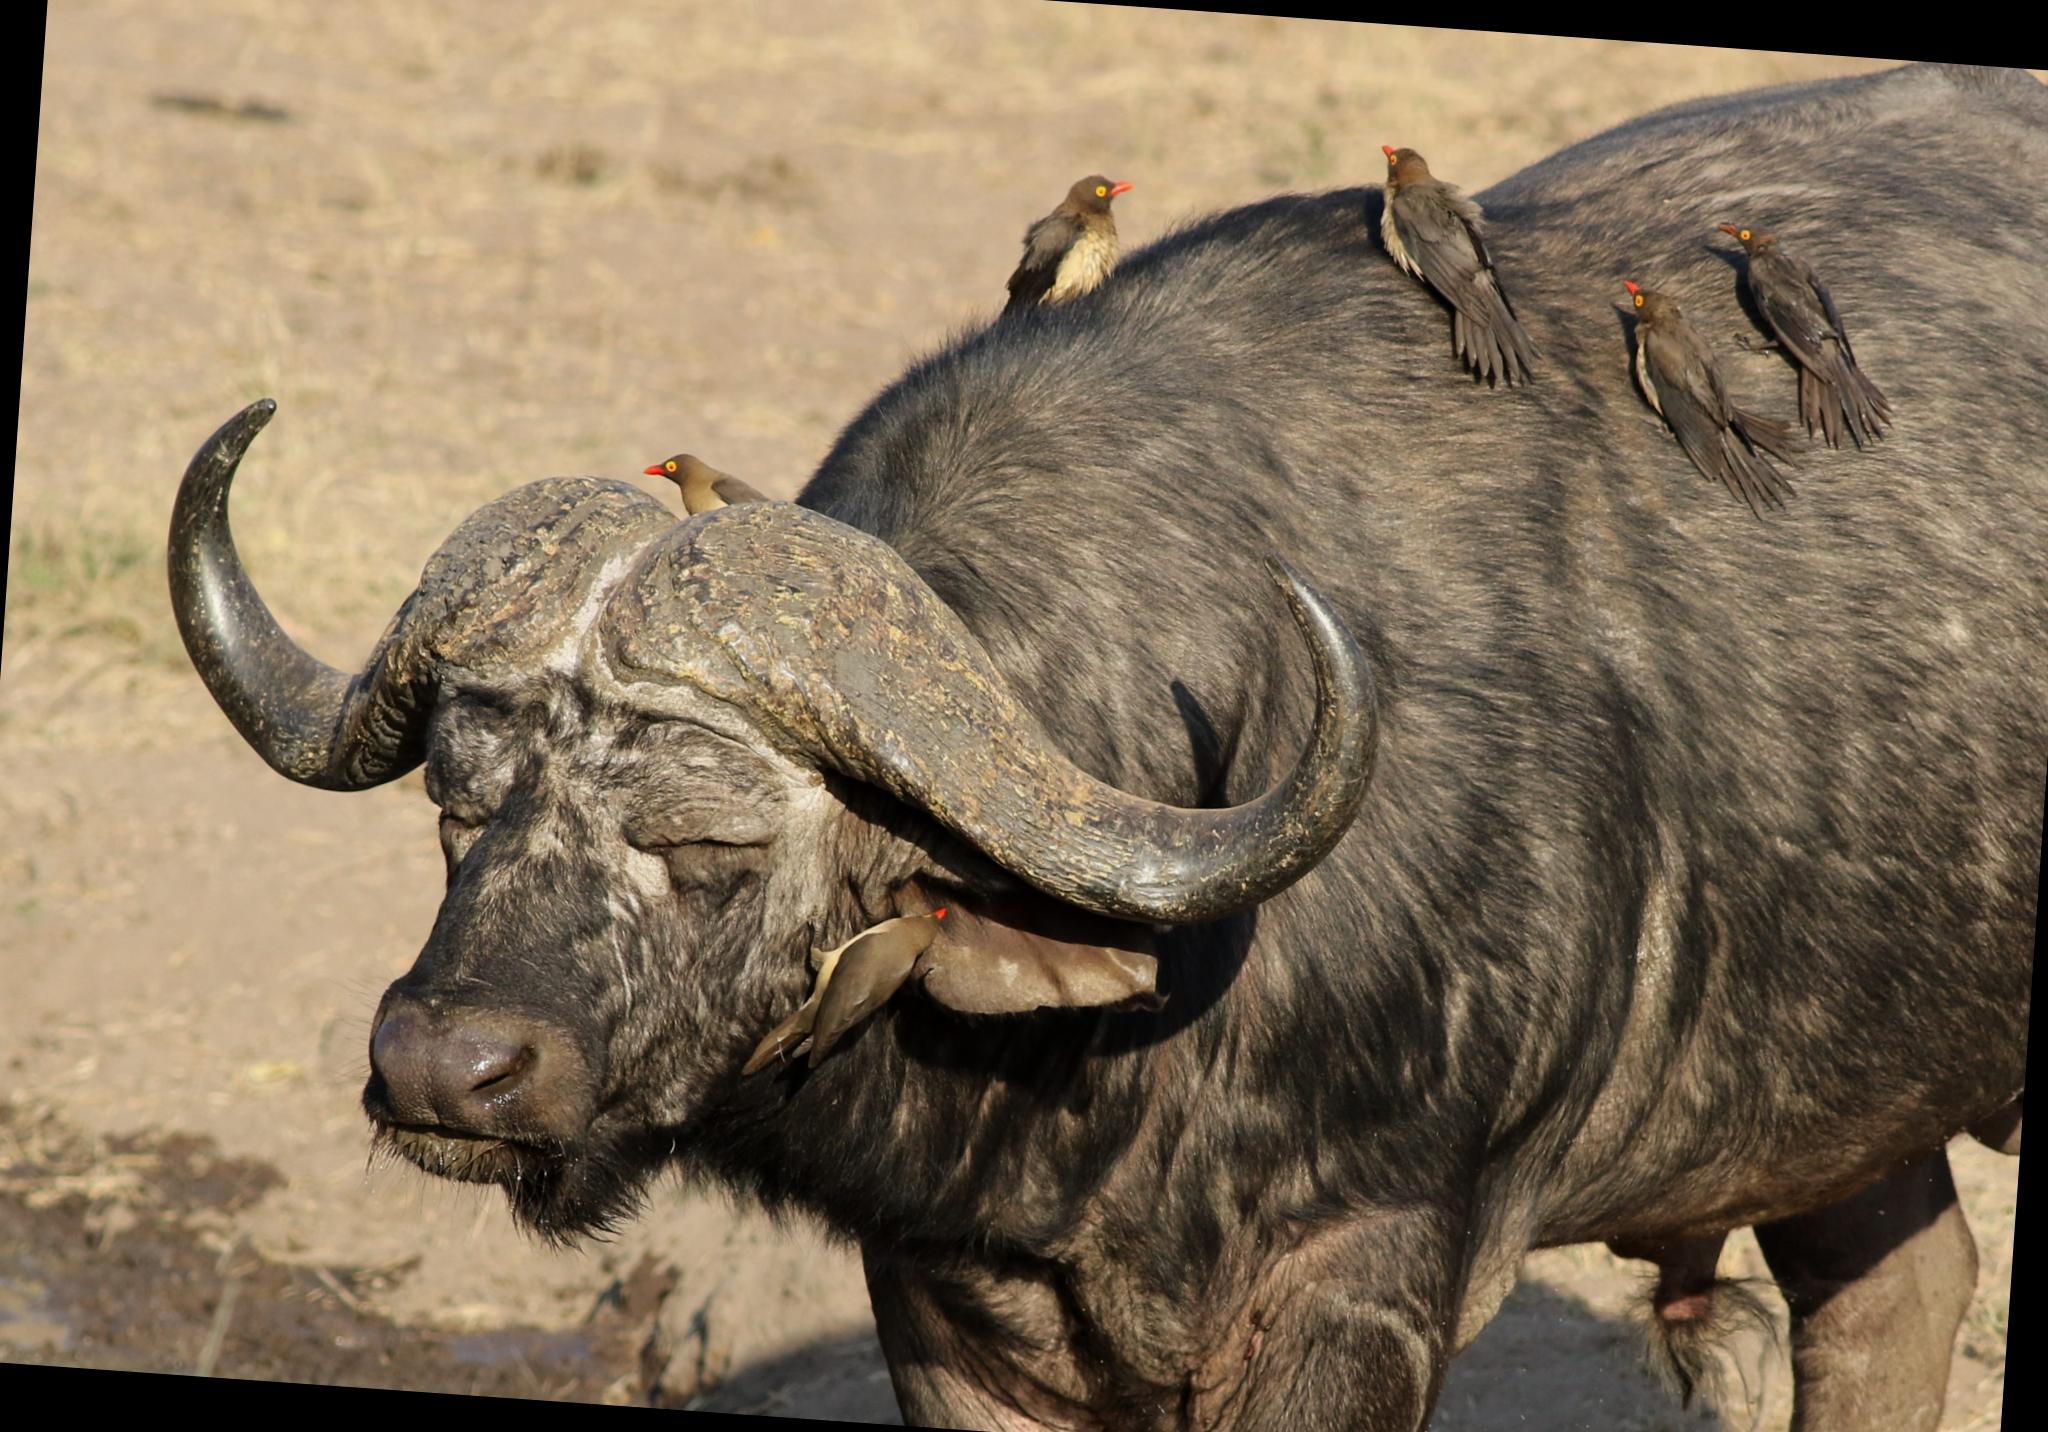Buffalo: (5, 62, 2048, 1432)
